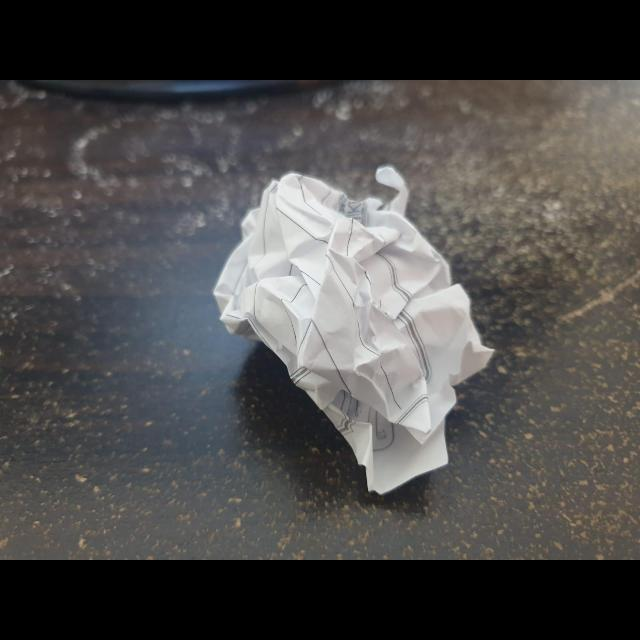scrap_paper: (214, 159, 502, 493)
